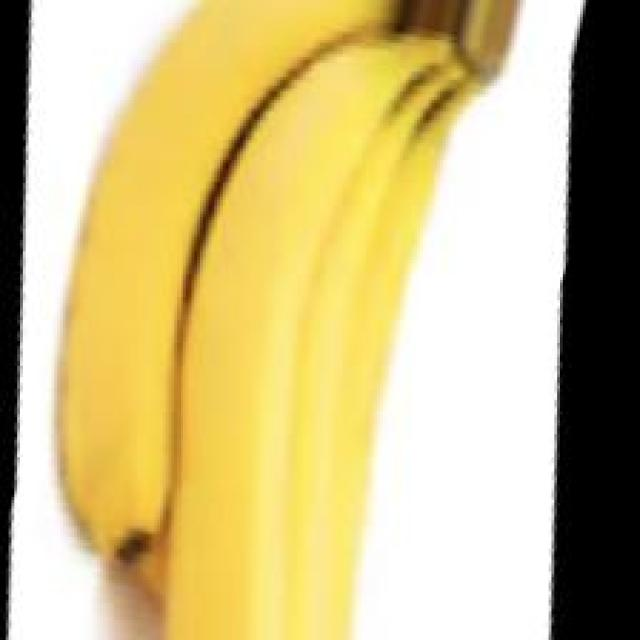banana: (52, 5, 496, 631)
